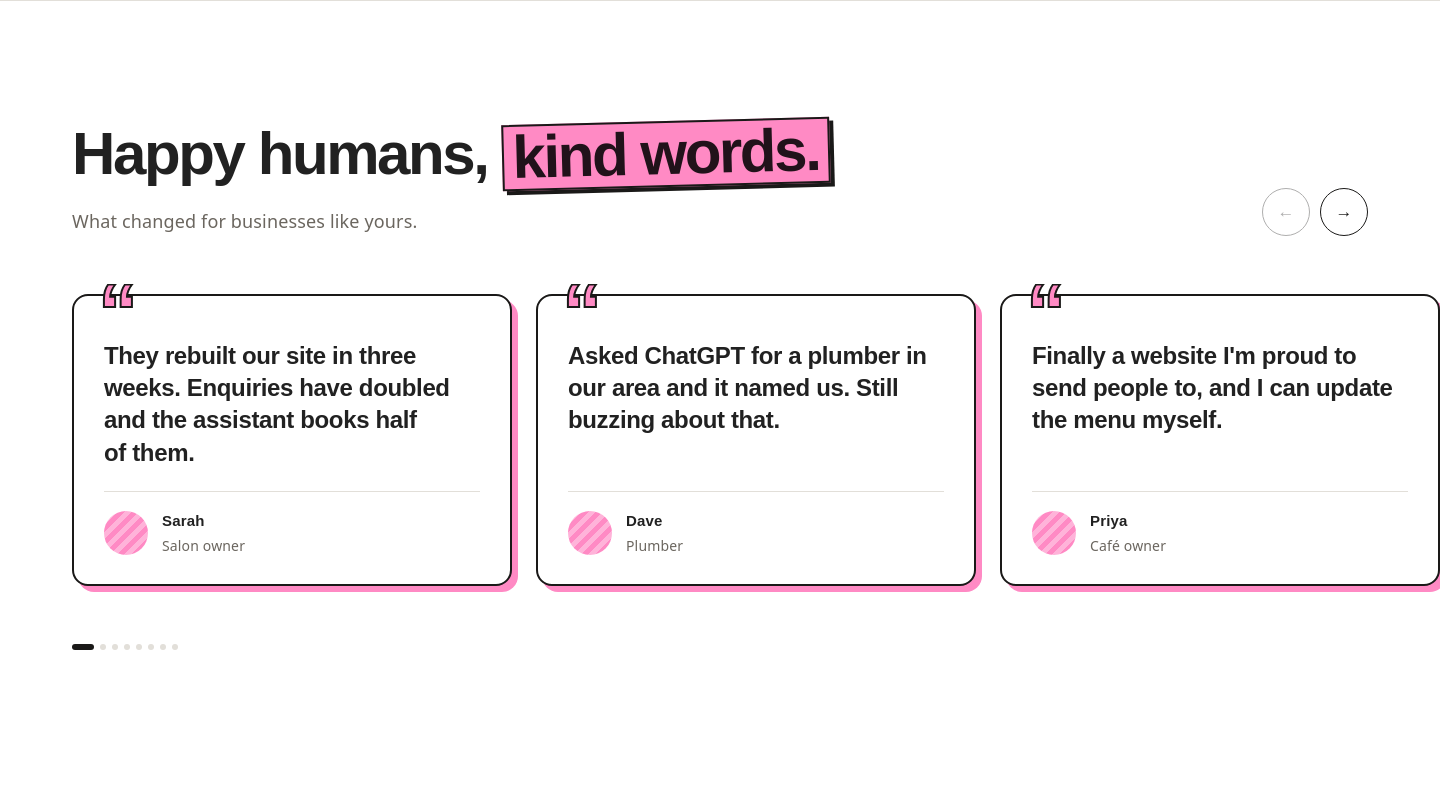
Scenario: Testimonials › moves to the next testimonial
The width and height of the screenshot is (1440, 810).
Expected: the button named "Previous testimonials" is disabled, 1262,188 -> 1310,236
Click the button named "Next testimonials" at x=1344, y=212, box 1320,188 -> 1368,236
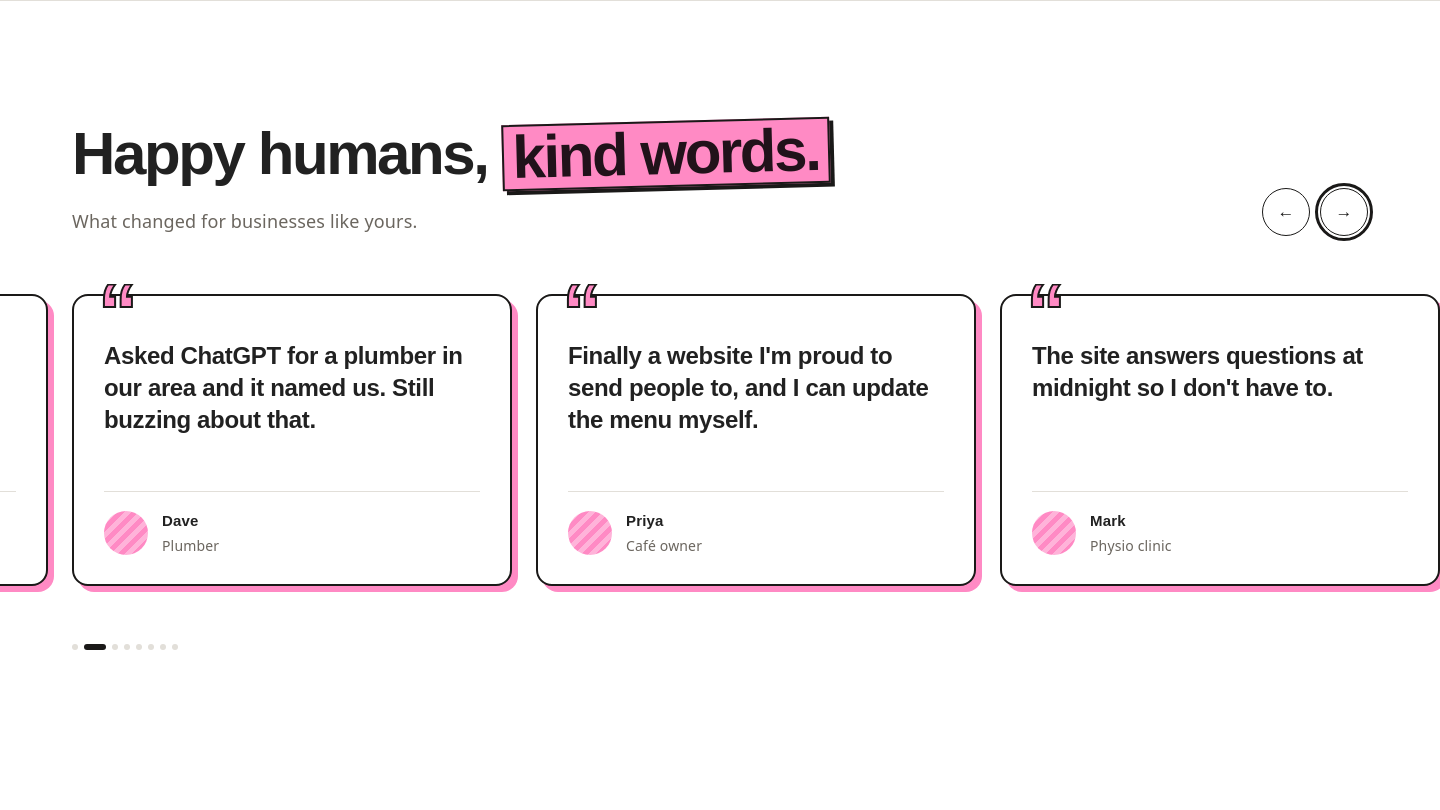
Now the button named "Previous testimonials" is enabled, box 1262,188 -> 1310,236
